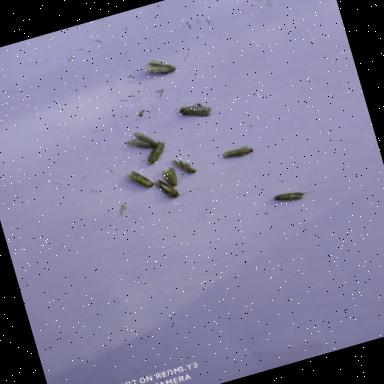pbw: (149, 166, 204, 206), (174, 93, 218, 126), (219, 137, 262, 170), (120, 125, 162, 158), (272, 182, 318, 209), (140, 52, 179, 82), (138, 137, 174, 169), (124, 164, 158, 194), (158, 162, 186, 191), (172, 154, 200, 180)
